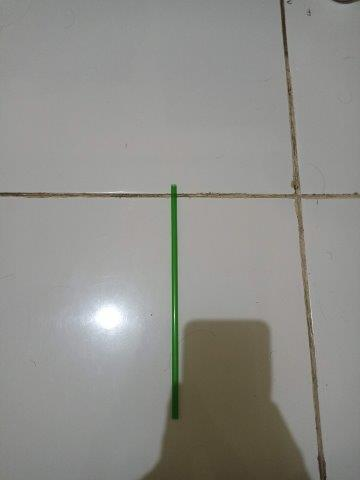sedotan: (171, 185, 179, 419)
